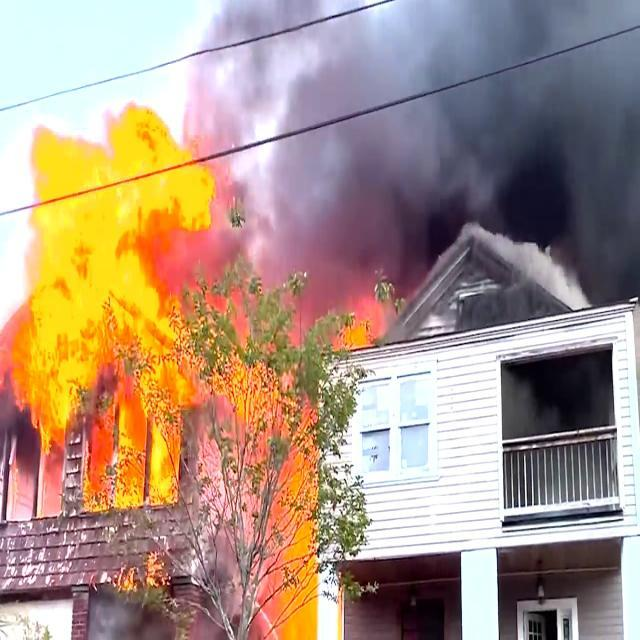Fire: (25, 94, 185, 497)
Smoke: (187, 0, 640, 225), (233, 323, 324, 640)
